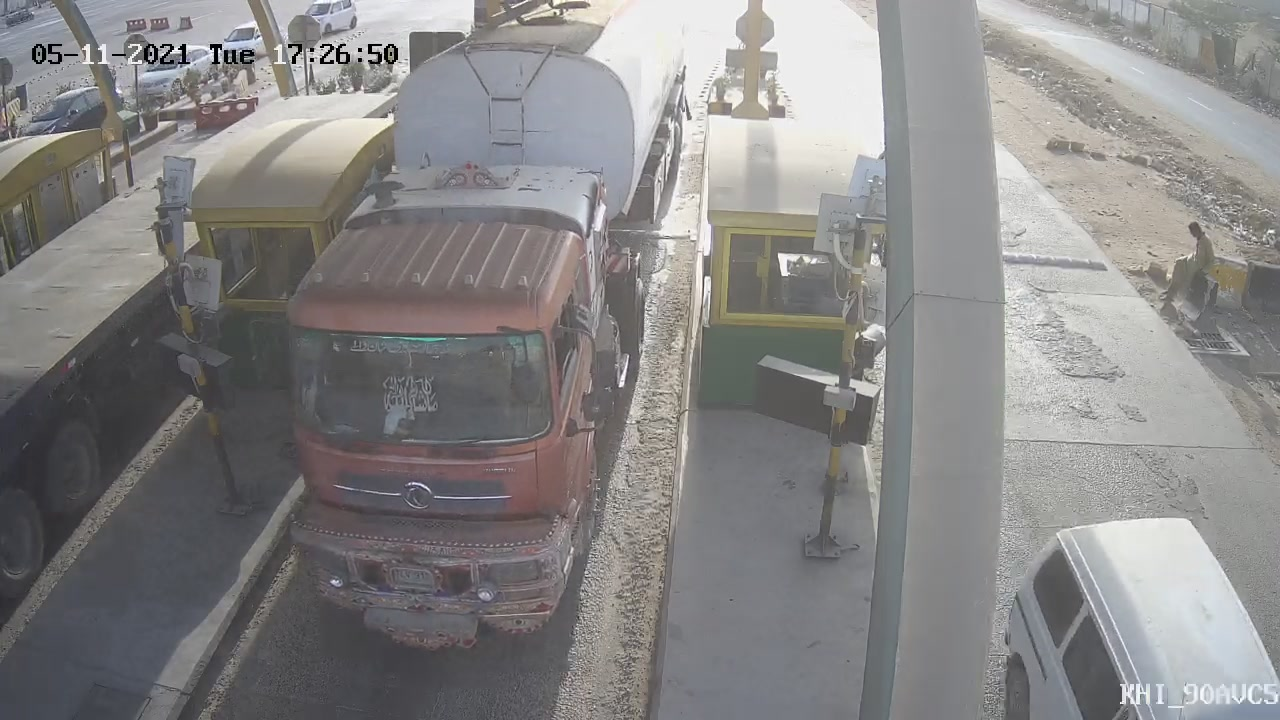F6: (229, 1, 698, 677)
